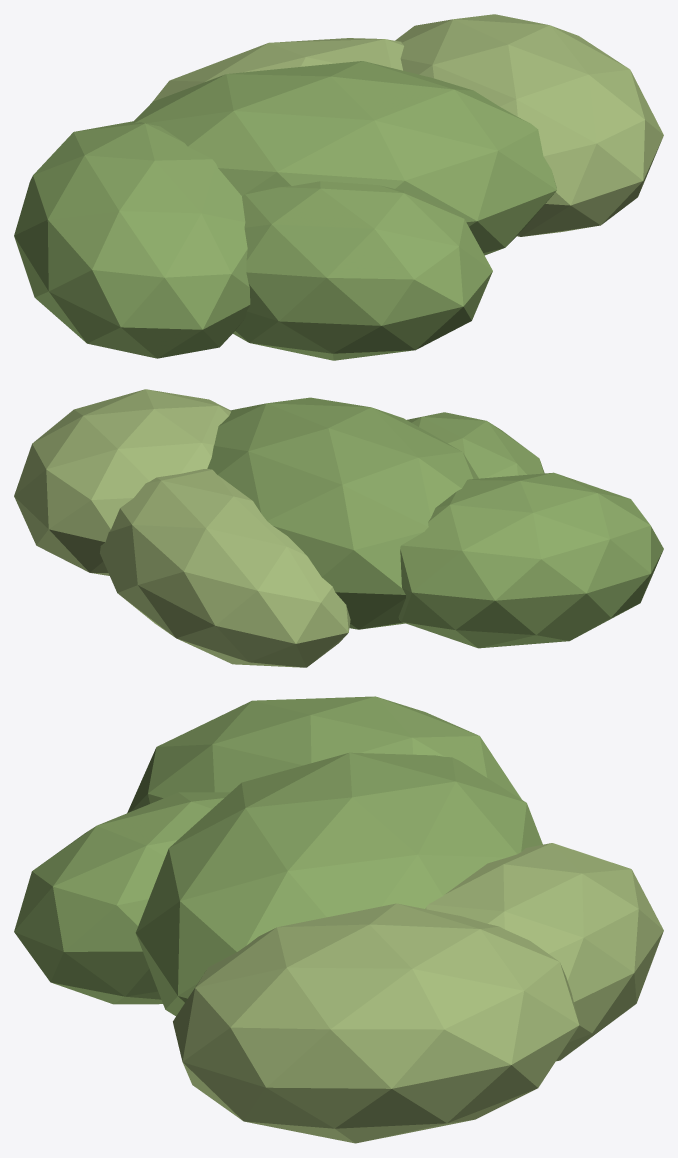
File: bush_low_spreading.glb
3 renders of one model, top to bottom at view 1: azimuth 30°, elevation 25°; view 2: azimuth 150°, elevation 25°; view 3: azimuth 270°, elevation 25°, orthographic. The views are drawn at different scales.
Visible parts, largest first — view 1: Spreading_Shrub_Center, Spreading_Shrub_Low_Lobe_0, Spreading_Shrub_Low_Lobe_2, Spreading_Shrub_Low_Lobe_1, Spreading_Shrub_Low_Lobe_3; view 2: Spreading_Shrub_Low_Lobe_0, Spreading_Shrub_Center, Spreading_Shrub_Low_Lobe_3, Spreading_Shrub_Low_Lobe_1, Spreading_Shrub_Low_Lobe_2; view 3: Spreading_Shrub_Low_Lobe_1, Spreading_Shrub_Center, Spreading_Shrub_Low_Lobe_2, Spreading_Shrub_Low_Lobe_3, Spreading_Shrub_Low_Lobe_0.
Boxes of the visible parts, x1,y1,x2,y2 form: Spreading_Shrub_Center: (132,61,556,255); Spreading_Shrub_Low_Lobe_0: (14,121,250,358); Spreading_Shrub_Low_Lobe_2: (233,181,492,360); Spreading_Shrub_Low_Lobe_1: (395,14,663,236); Spreading_Shrub_Low_Lobe_3: (152,38,403,101); Spreading_Shrub_Low_Lobe_0: (398,472,663,648); Spreading_Shrub_Center: (207,397,478,629); Spreading_Shrub_Low_Lobe_3: (100,469,350,667); Spreading_Shrub_Low_Lobe_1: (14,389,230,575); Spreading_Shrub_Low_Lobe_2: (407,412,544,478); Spreading_Shrub_Low_Lobe_1: (173,903,579,1143); Spreading_Shrub_Center: (135,752,542,1015); Spreading_Shrub_Low_Lobe_2: (14,792,230,1004); Spreading_Shrub_Low_Lobe_3: (425,843,663,1061); Spreading_Shrub_Low_Lobe_0: (127,696,521,813).
Bounding box in the file's own units: 1.42 × 0.4501 × 1.08.
